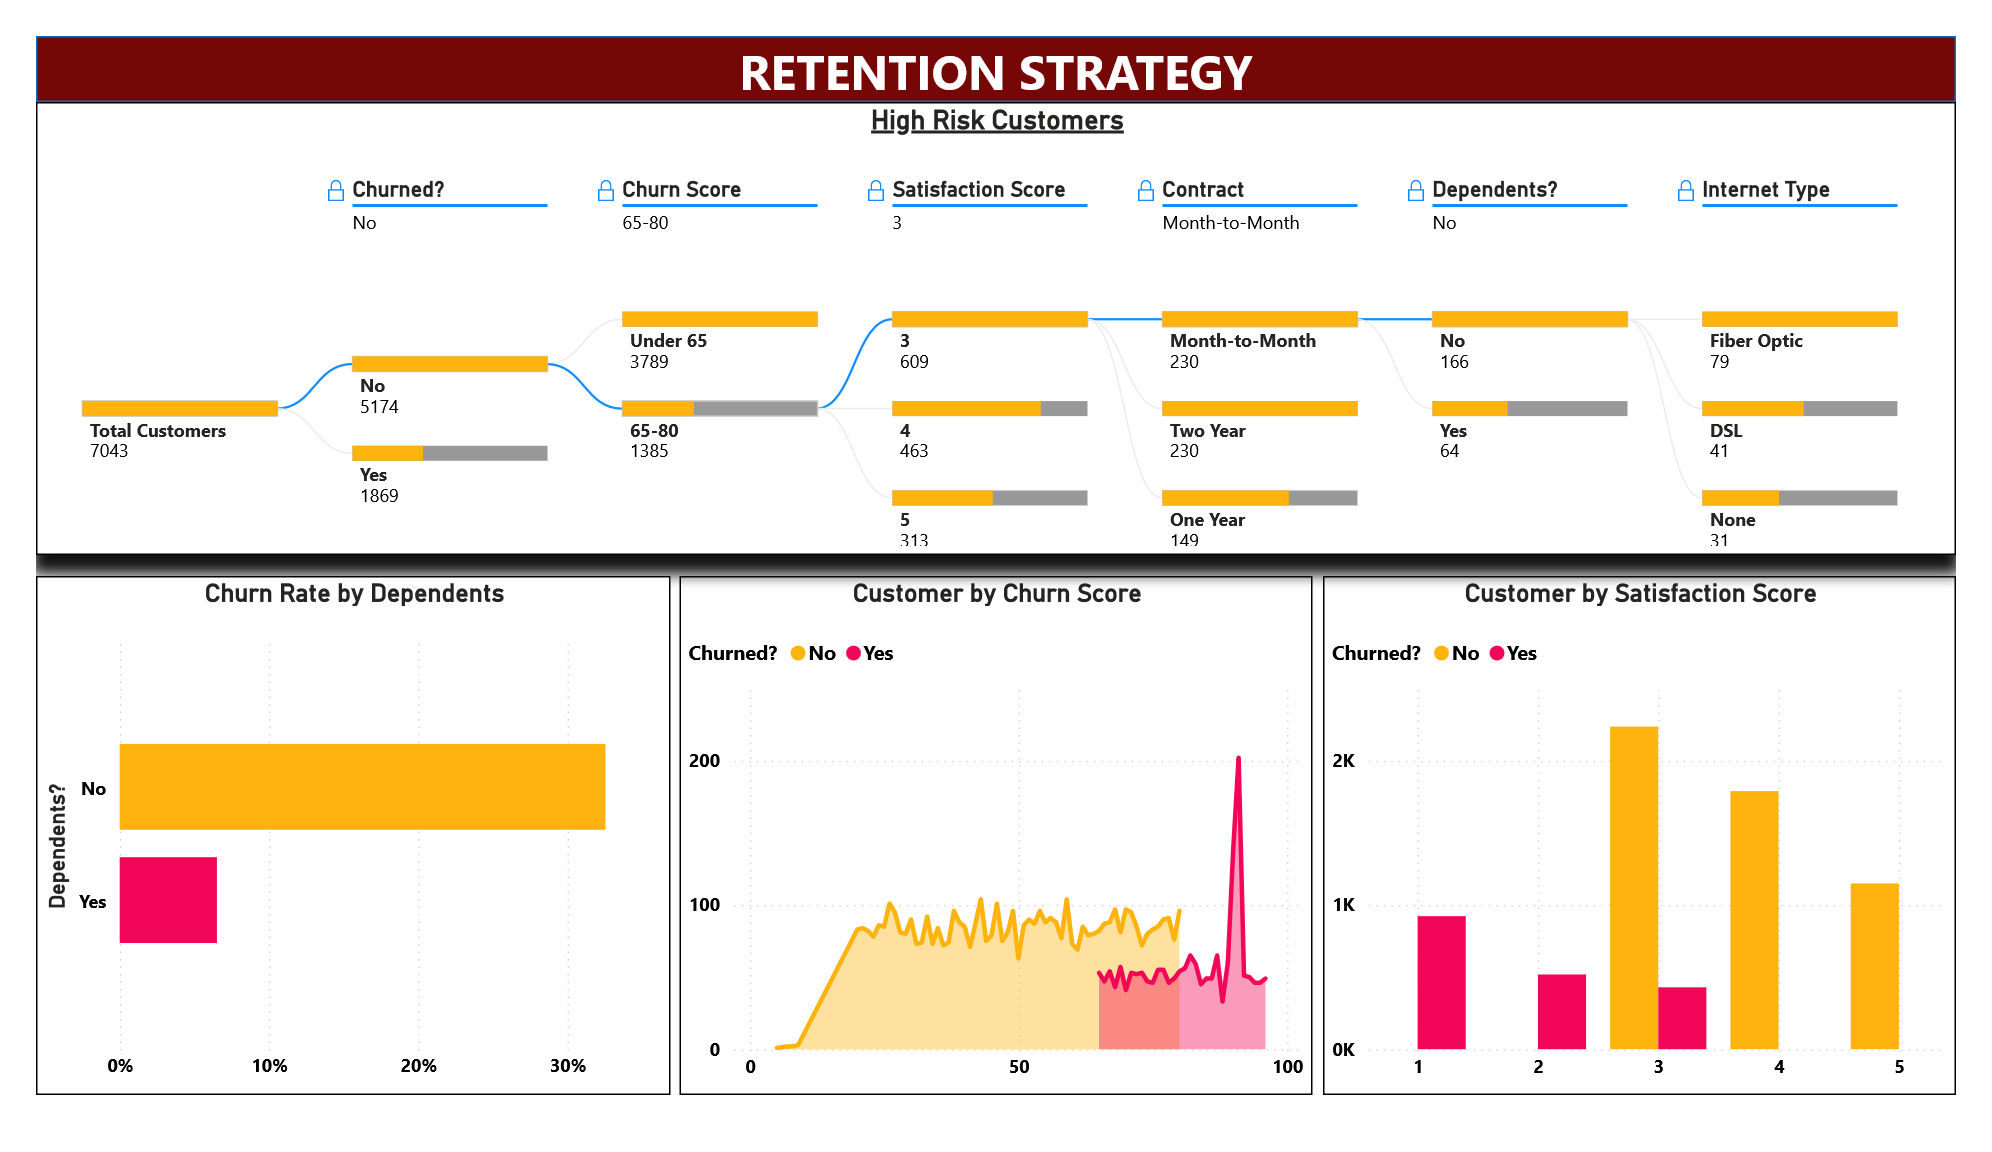

The dashboard page shown, as its layout file describes it:
{"tool":"powerbi","page":{"name":"Page 3","canvas":[1280,720],"ordinal":2},"visuals":[{"type":"areaChart","title":"Customer by Churn Score ","fields":{"Category":["telco_customer_churn telco_customer_churn_status.churn_score"],"Series":["telco_customer_churn telco_customer_churn_status.churn_label"],"Y":["CountNonNull(telco_customer_churn telco_customer_churn_status.customer_id)"]},"box":[428.8,360,422.5,346.2],"z":0},{"type":"lineClusteredColumnComboChart","title":"Customer by Satisfaction Score","fields":{"Category":["telco_customer_churn telco_customer_churn_status.satisfaction_score"],"Y":["CountNonNull(telco_customer_churn telco_customer_churn_status.customer_id)"],"Series":["telco_customer_churn telco_customer_churn_status.churn_label"]},"box":[857.5,360,422.5,346.2],"z":1000},{"type":"decompositionTreeVisual","title":"High Risk Customers","fields":{"ExplainBy":["telco_customer_churn telco_customer_churn_status.churn_label","telco_customer_churn telco_customer_churn_status.churn_score_group","telco_customer_churn telco_customer_churn_status.satisfaction_score","telco_customer_churn telco_customer_churn_services.contract","telco_customer_churn telco_customer_churn_demographics.dependents","telco_customer_churn telco_customer_churn_services.internet_type"],"Analyze":["CountNonNull(telco_customer_churn telco_customer_churn_status.customer_id)"]},"box":[0,43.8,1280,302.5],"z":2000},{"type":"shape","box":[0,0,1280,43.8],"z":3000},{"type":"clusteredBarChart","title":"Churn Rate by Dependents","fields":{"Category":["telco_customer_churn telco_customer_churn_demographics.dependents"],"Y":["telco_customer_churn telco_customer_churn_status.Churn Rate"]},"box":[0,360,422.5,346.2],"z":4000}]}

Visuals, with their boxes in screenshot pixels (x1, y1, x2, y2), scaled from the page's 1280x720 canvas onto the 1992x1152 screenshot:
"Customer by Churn Score " areaChart: [left=667, top=576, right=1325, bottom=1130]
"Customer by Satisfaction Score" lineClusteredColumnComboChart: [left=1334, top=576, right=1991, bottom=1130]
"High Risk Customers" decompositionTreeVisual: [left=0, top=70, right=1991, bottom=554]
shape: [left=0, top=0, right=1991, bottom=70]
"Churn Rate by Dependents" clusteredBarChart: [left=0, top=576, right=658, bottom=1130]
